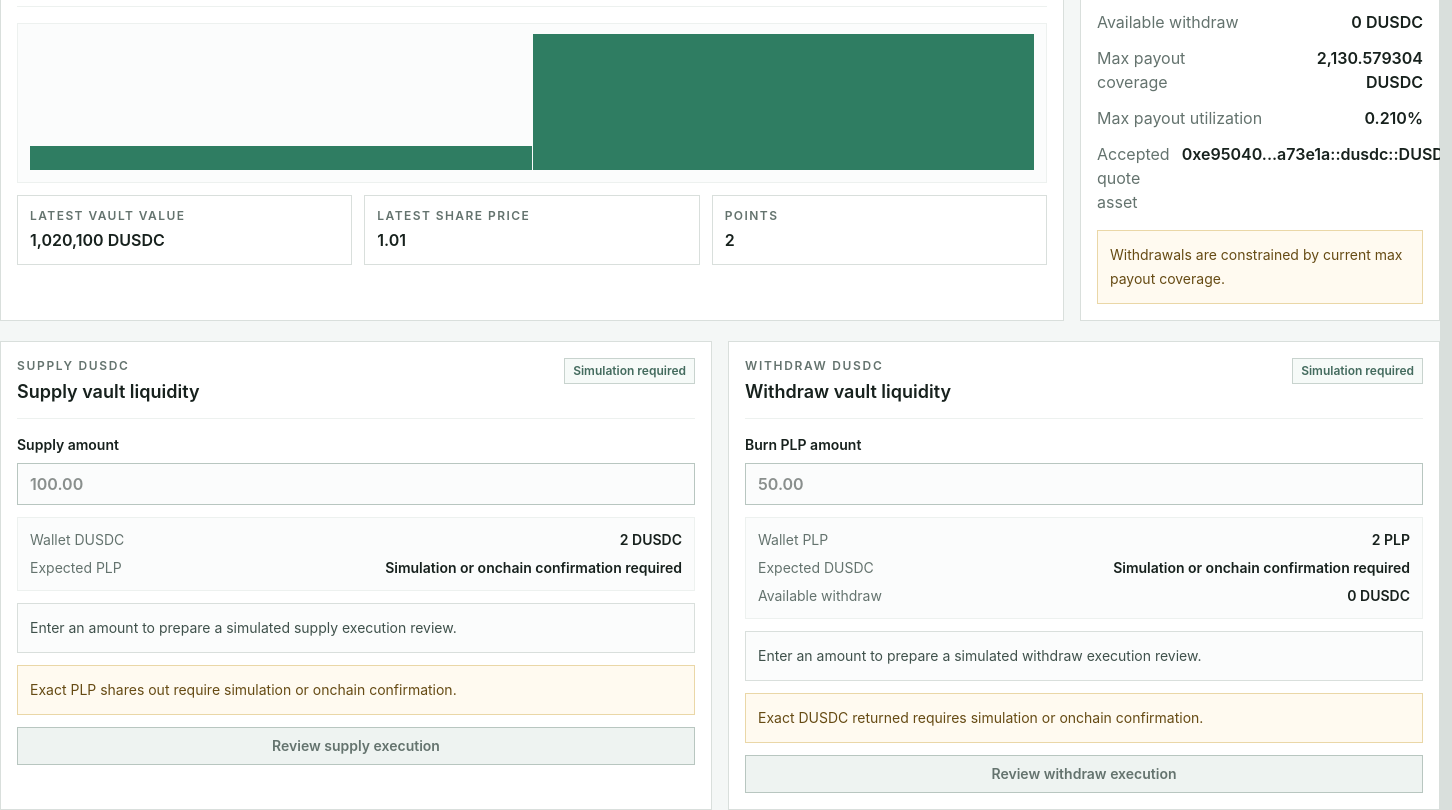
Scenario: VaultPage › blocks withdraw execution review when vault withdrawal is unavailable
(page scrolled)
Type "1.5" into the field labelled "Burn PLP amount" at (1084, 484), box 745,463 -> 1423,505
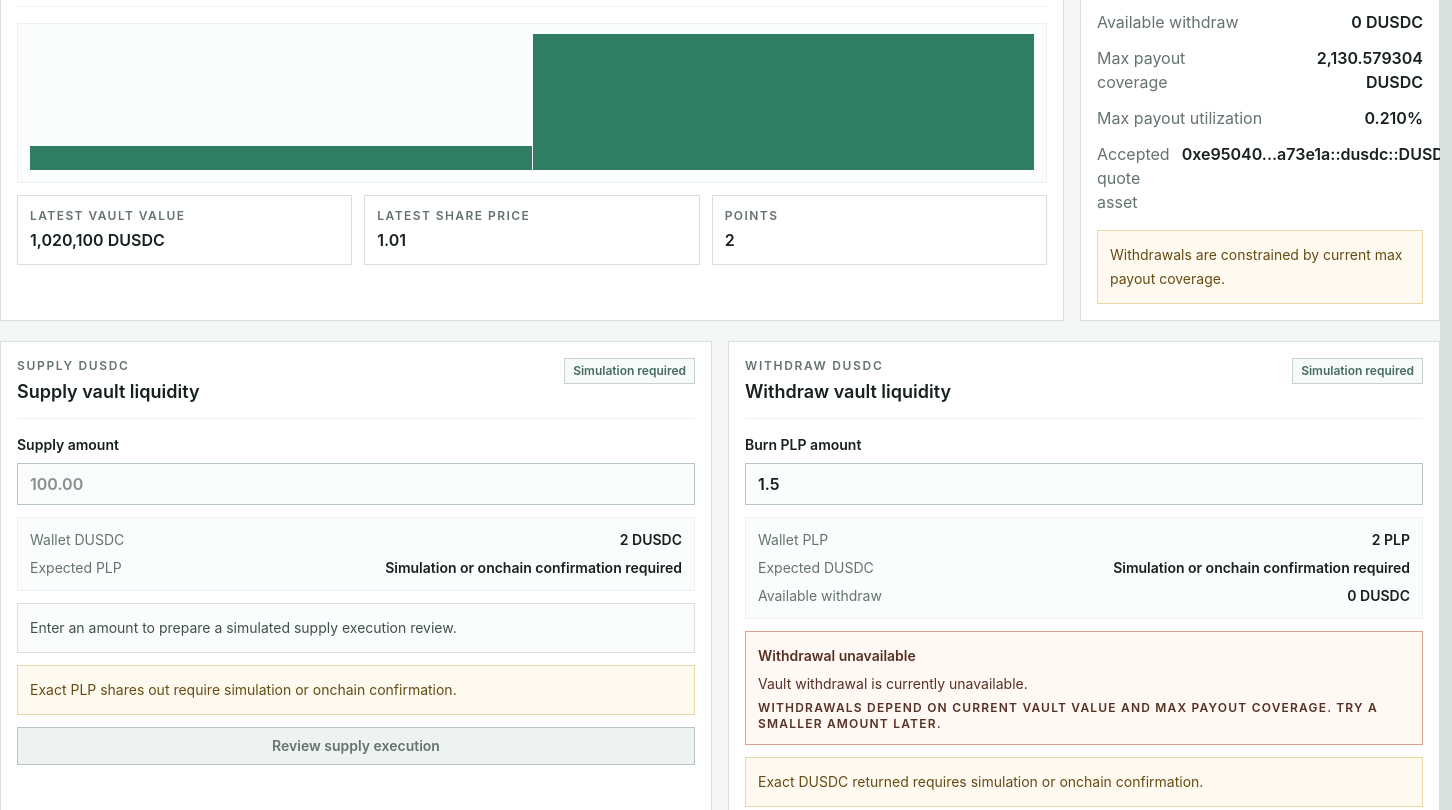
expect the text "Vault withdrawal is currently unavailable." is shown: met, box 758,675 -> 1028,692
expect the text "Withdrawals depend on current vault value and max payout coverage. Try a smaller amount later." is shown: met, box 758,700 -> 1378,731
